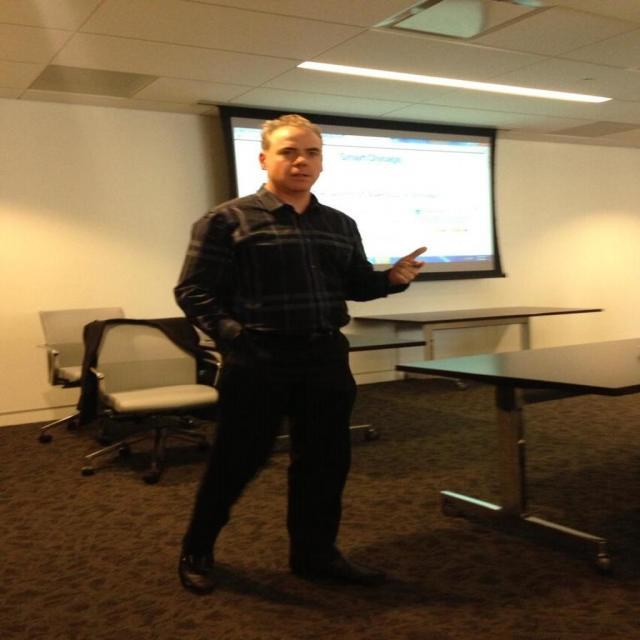chair: (80, 318, 220, 484), (36, 306, 126, 439)
desk: (374, 280, 626, 564)
person: (170, 118, 430, 604)
tv: (312, 129, 502, 279)
